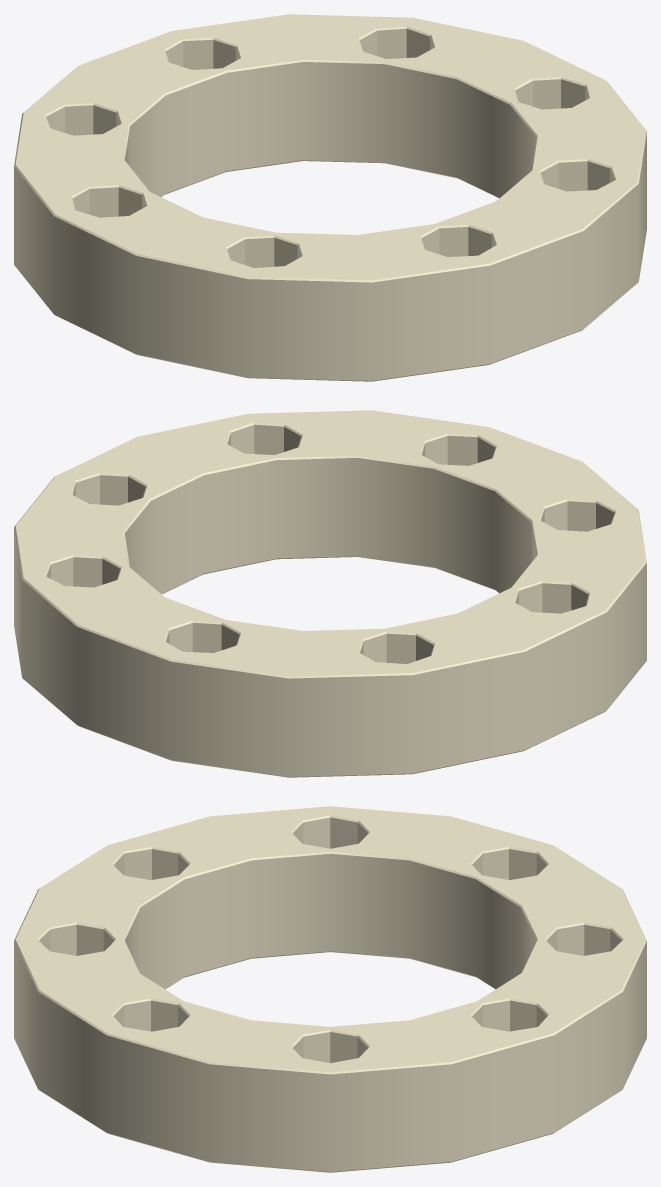
Rendered from Bearing.fbx.
3 views of the same model, one above another, from view 1: azimuth 30°, elevation 25°; view 2: azimuth 150°, elevation 25°; view 3: azimuth 270°, elevation 25° (orthographic).
Parts seen in each view (by area): view 1: Object014; view 2: Object014; view 3: Object014.
Part boxes in pixels (left/top/right/bottom): Object014: left=14, top=14, right=646, bottom=381; Object014: left=14, top=410, right=646, bottom=777; Object014: left=14, top=806, right=646, bottom=1172.
Size of the model in its own units: 200 by 35 by 200.
